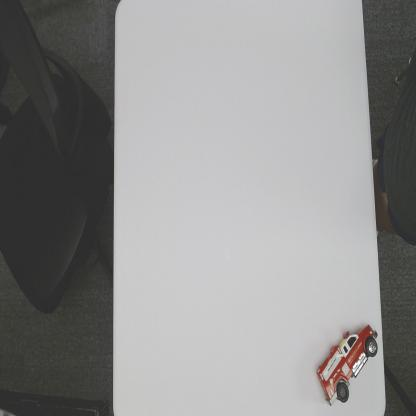Firetruck: (316, 322, 378, 407)
